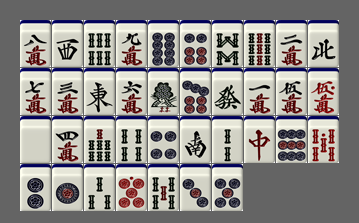0m: (308, 68, 339, 115)
0p: (116, 164, 147, 211)
0s: (308, 116, 339, 163)
1m: (244, 68, 275, 115)
1p: (52, 164, 83, 211)
1s: (148, 68, 179, 115)
1z: (84, 68, 115, 115)
2m: (276, 20, 307, 67)
2p: (20, 164, 51, 211)
2s: (212, 116, 243, 163)
2z: (180, 116, 211, 163)
3m: (52, 68, 83, 115)
3p: (180, 164, 211, 211)
3s: (84, 164, 115, 211)
3z: (52, 20, 83, 67)
4m: (52, 116, 83, 163)
4p: (148, 116, 179, 163)
4s: (116, 116, 147, 163)
4z: (308, 20, 339, 67)
5m: (276, 68, 307, 115)
5p: (212, 164, 243, 211)
5s: (148, 164, 179, 211)
5z: (20, 116, 51, 163)
6m: (116, 68, 147, 115)
6p: (180, 20, 211, 67)
6s: (84, 20, 115, 67)
6z: (212, 68, 243, 115)
7m: (20, 68, 51, 115)
7p: (180, 68, 211, 115)
7s: (84, 116, 115, 163)
7z: (244, 116, 275, 163)
8m: (20, 20, 51, 67)
8p: (148, 20, 179, 67)
8s: (212, 20, 243, 67)
9m: (116, 20, 147, 67)
9p: (276, 116, 307, 163)
9s: (244, 20, 275, 67)
